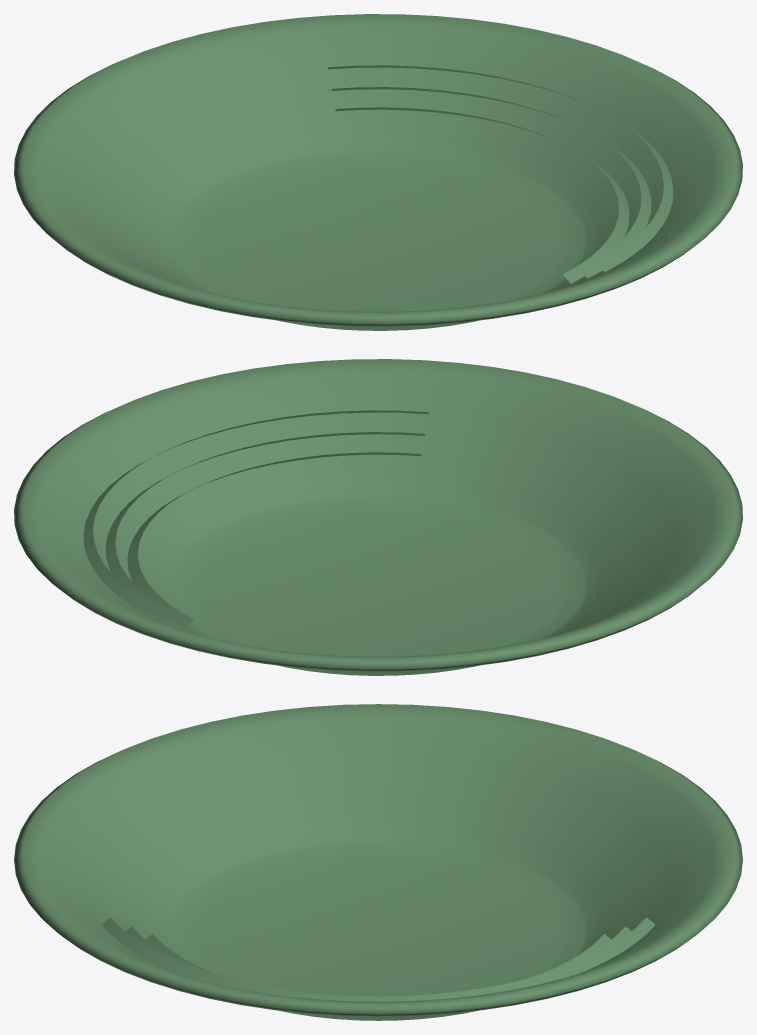
Rendered from gold_pan.glb.
3 renders of one model, top to bottom at view 1: azimuth 30°, elevation 25°; view 2: azimuth 150°, elevation 25°; view 3: azimuth 270°, elevation 25°, orthographic.
Parts seen in each view (by area): view 1: gold_pan; view 2: gold_pan; view 3: gold_pan.
Boxes of the visible parts, x1,y1,x2,y2 form: gold_pan: (14,14,742,330); gold_pan: (14,359,742,675); gold_pan: (14,704,742,1020).
Size of the model in its own units: 0.488 by 0.062 by 0.488.
